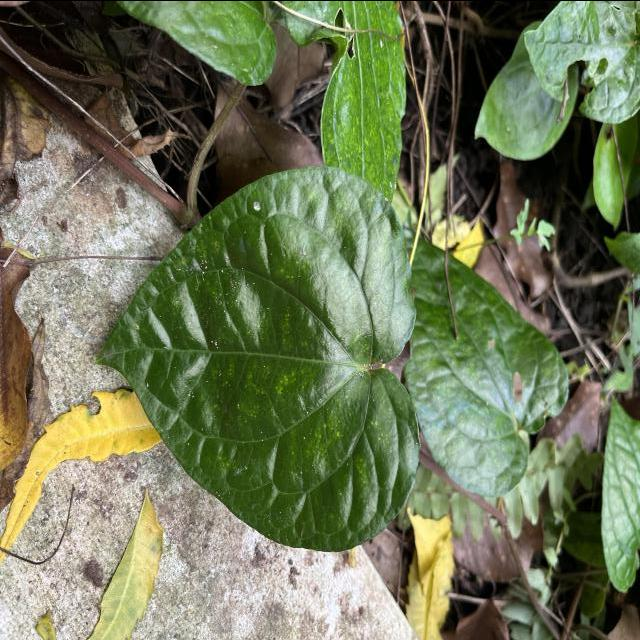Piper betle: (89, 162, 424, 556)
